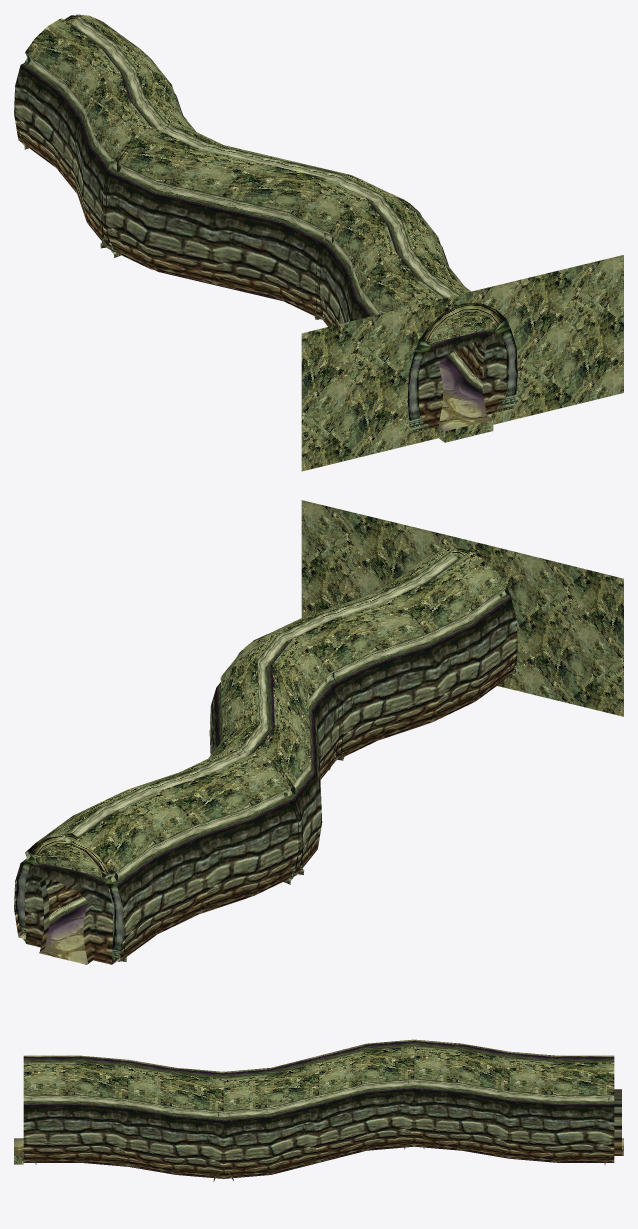
Rendered from room_68.glb.
The picture shows the model from 3 angles, top to bottom: view 1: azimuth 30°, elevation 25°; view 2: azimuth 150°, elevation 25°; view 3: azimuth 270°, elevation 25°; orthographic projection. The views are drawn at different scales.
Parts seen in each view (by area): view 1: room_68; view 2: room_68; view 3: room_68.
Boxes of the visible parts, <box> form: room_68: <box>14,14,623,471</box>; room_68: <box>14,500,623,964</box>; room_68: <box>14,1039,623,1181</box>.
Bounding box in the file's own units: 1465 × 602 × 3200.
5 materials, 5 textured.
